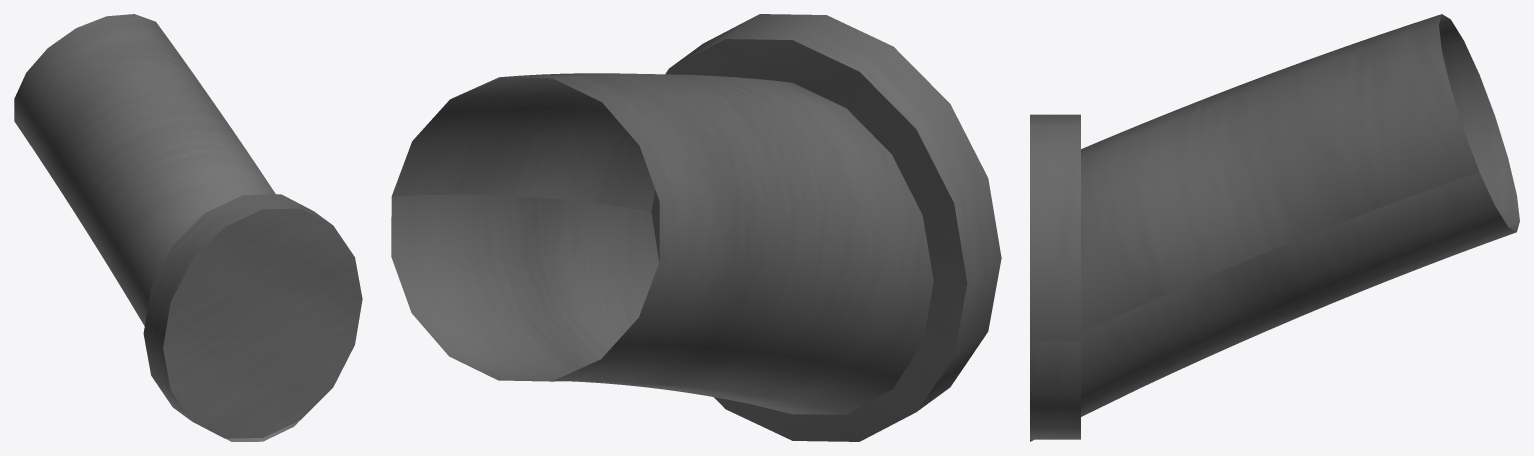
Rendered from mastarmcurve_4x1_c0.obj.
3 renders of one model, left to right at view 1: azimuth 30°, elevation 25°; view 2: azimuth 150°, elevation 25°; view 3: azimuth 270°, elevation 25°, orthographic. The views are drawn at different scales.
Visible parts, largest first — view 1: mastarm_4x1_c0; view 2: mastarm_4x1_c0; view 3: mastarm_4x1_c0.
Part boxes in pixels (x1,y1,x2,y2): mastarm_4x1_c0: (14, 14, 362, 441); mastarm_4x1_c0: (391, 14, 1001, 441); mastarm_4x1_c0: (1030, 14, 1519, 441).
Bounding box in the file's own units: 0.775 × 1.15 × 1.26.
